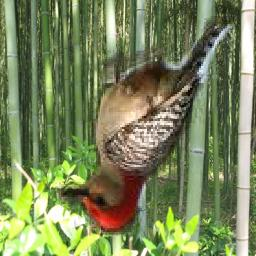Woodpecker: (55, 16, 235, 236)
